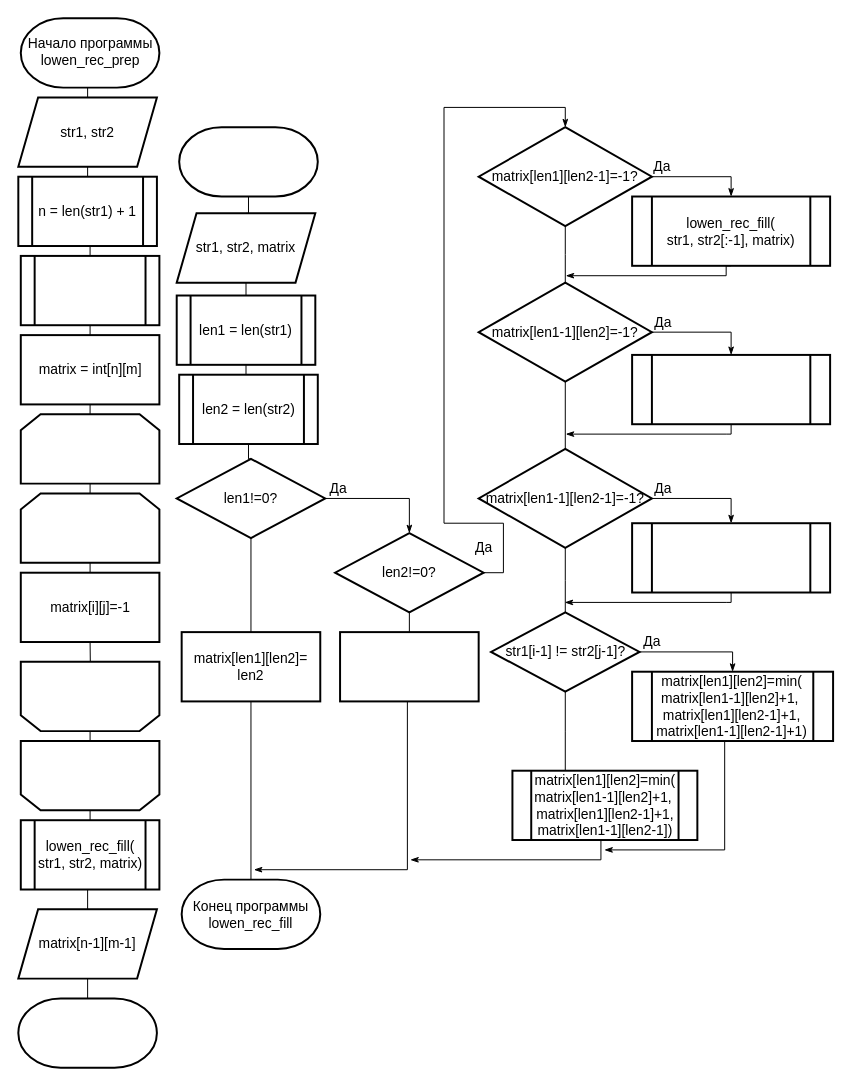
Some shapes in this 850 by 1085 pixel diagram are drawn without their labels. Each missing label, with the centre of its shape:
"lowen_rec_fill( str1[:-1, str2[:-1], matrix)" goes at (x=731, y=557).
"lowen_rec_fill( str1[:-1], str2, matrix)" goes at (x=731, y=389).
"m = len(str2) + 1" goes at (x=89, y=290).
"matrix[len1][len2]= len1" goes at (x=409, y=666).
"Конец программы lowen_matrix" goes at (x=87, y=1032).
"Конец цикла по i от 1 до n" goes at (x=89, y=775).
"Конец цикла по j от 1 до m" goes at (x=89, y=696).
"Начало программы lowen_rec_fill" goes at (x=248, y=161).
"Цикл по i от 1 до n" goes at (x=89, y=448).
"Цикл по j от 1 до m" goes at (x=89, y=527).
